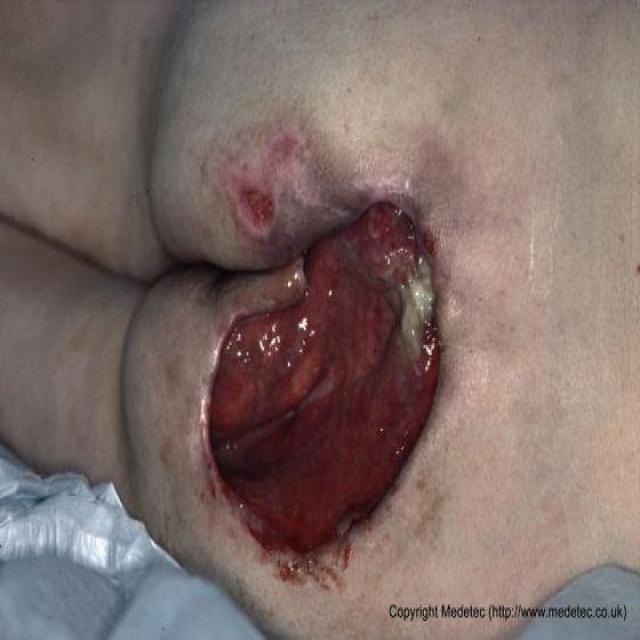stage-2: (239, 190, 272, 231)
stage-4: (210, 203, 440, 551)
